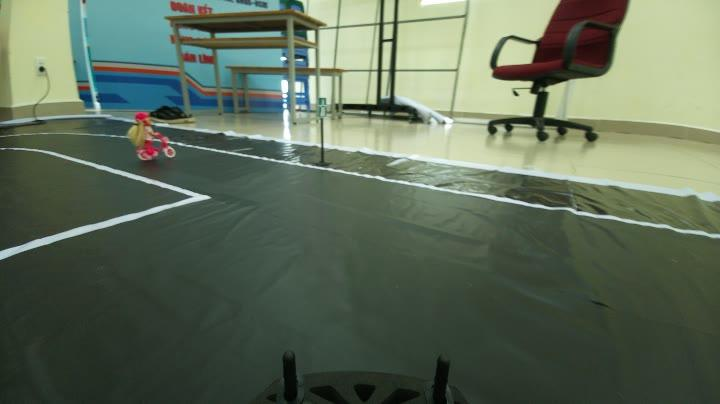pedestrian: (110, 107, 190, 166)
